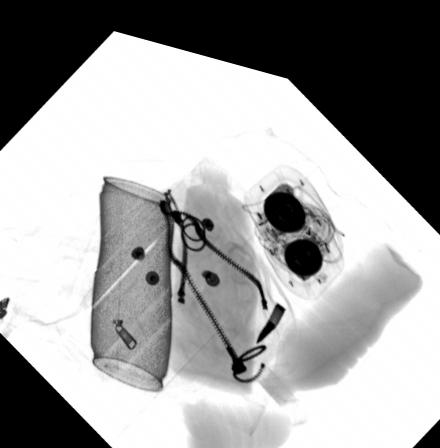Bullet: (254, 286, 286, 330)
